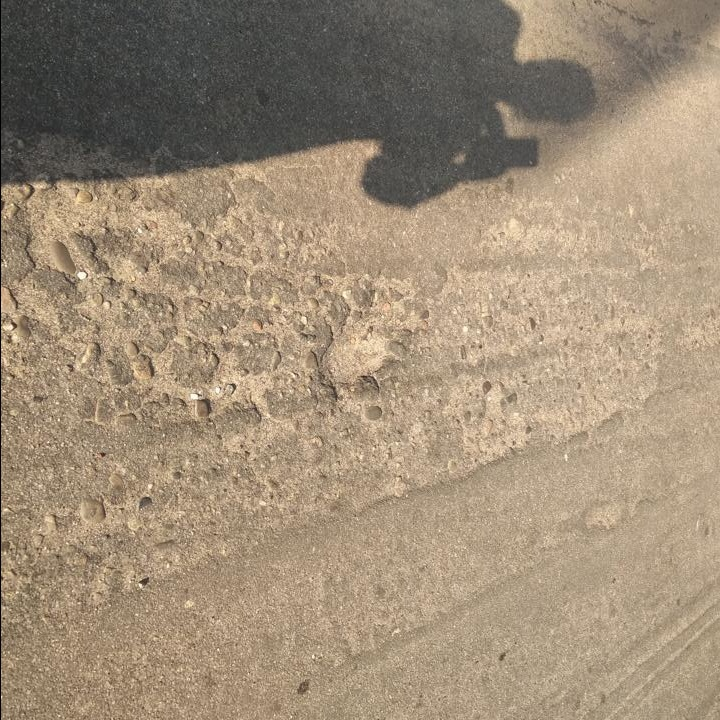pothole: (313, 304, 397, 398)
